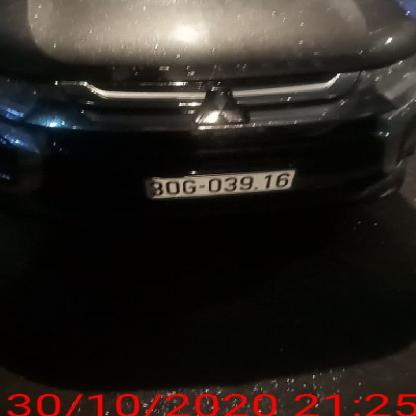biensoxe: (144, 172, 292, 200)
